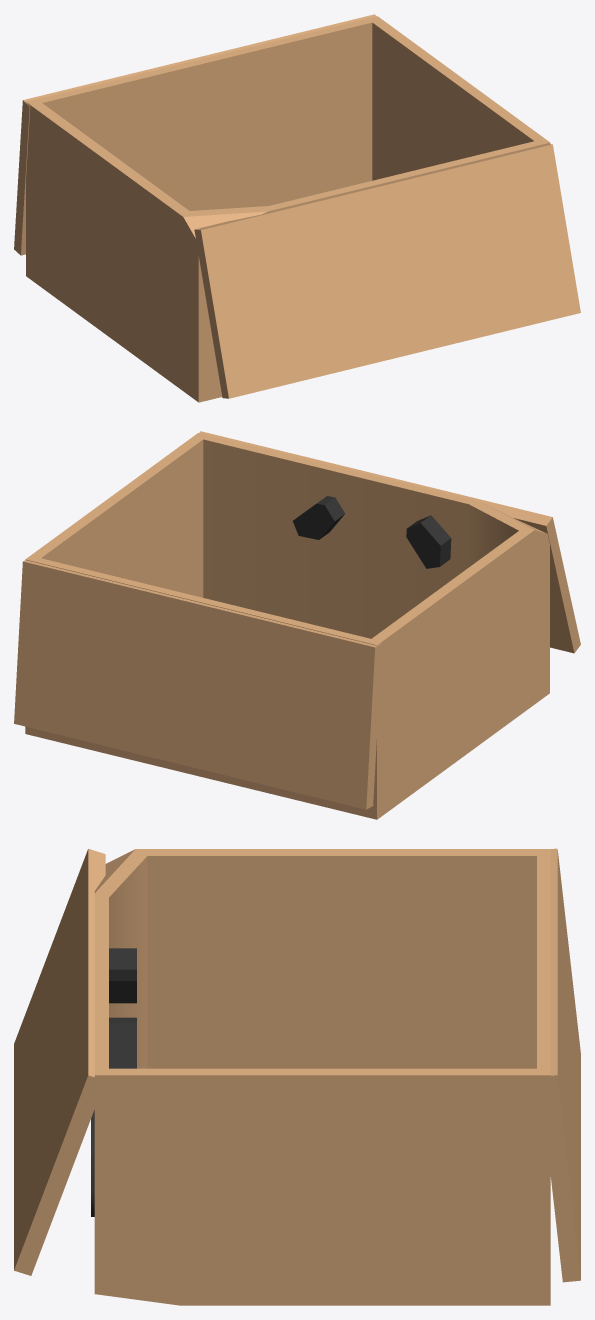
Rendered from SM_Box_Open.fbx.
3 views of the same model, one above another, from view 1: azimuth 30°, elevation 25°; view 2: azimuth 150°, elevation 25°; view 3: azimuth 270°, elevation 25° (orthographic). The views are drawn at different scales.
Parts seen in each view (by area): view 1: Box_Open; view 2: Box_Open, Face; view 3: Box_Open, Face.
Part boxes in pixels (<box>): Box_Open: <box>14,14,580,402</box>; Box_Open: <box>14,431,580,819</box>; Face: <box>293,496,451,568</box>; Box_Open: <box>14,848,580,1305</box>; Face: <box>91,948,136,1216</box>.
Bounding box in the file's own units: 81.82 × 38.7 × 86.41.
